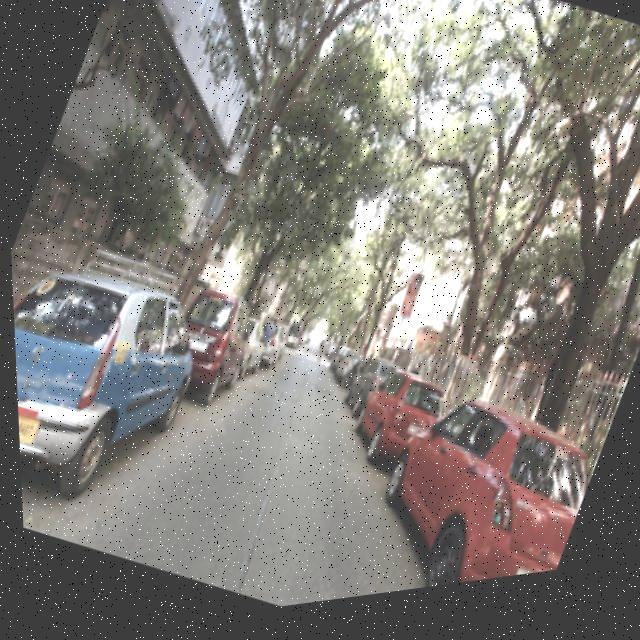license_plate: (14, 400, 35, 445), (501, 574, 547, 590)
